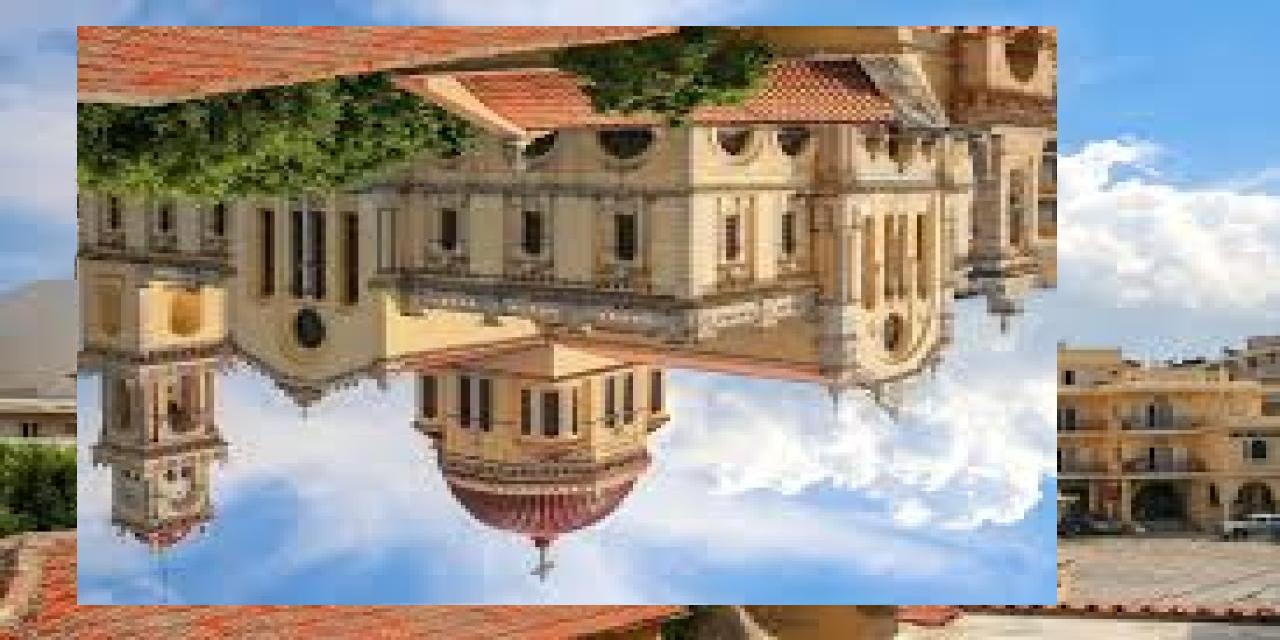Agios Minas: (78, 27, 1058, 606)
